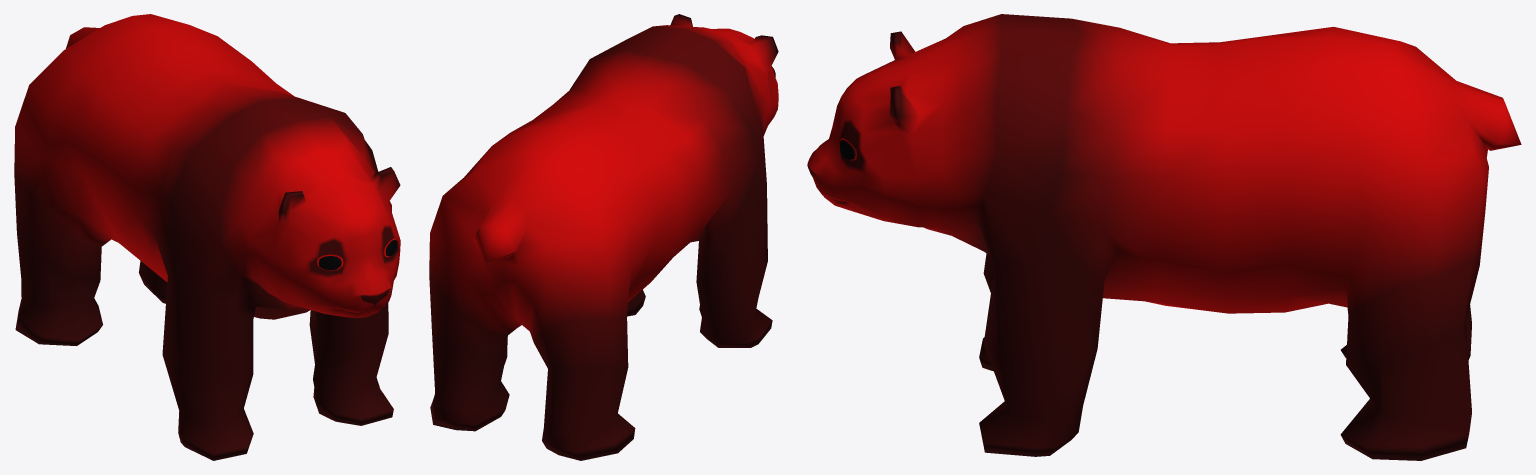
Rendered from Animals_Panda.fbx.
3 views of the same model, side by side, from view 1: azimuth 30°, elevation 25°; view 2: azimuth 150°, elevation 25°; view 3: azimuth 270°, elevation 25° (orthographic). The views are drawn at different scales.
Parts seen in each view (by area): view 1: base; view 2: base; view 3: base.
Part boxes in pixels (left/top/right/bottom): base: left=14, top=14, right=400, bottom=460; base: left=429, top=14, right=778, bottom=460; base: left=807, top=14, right=1521, bottom=460.
Bounding box in the file's own units: 75.98 × 108 × 187.
